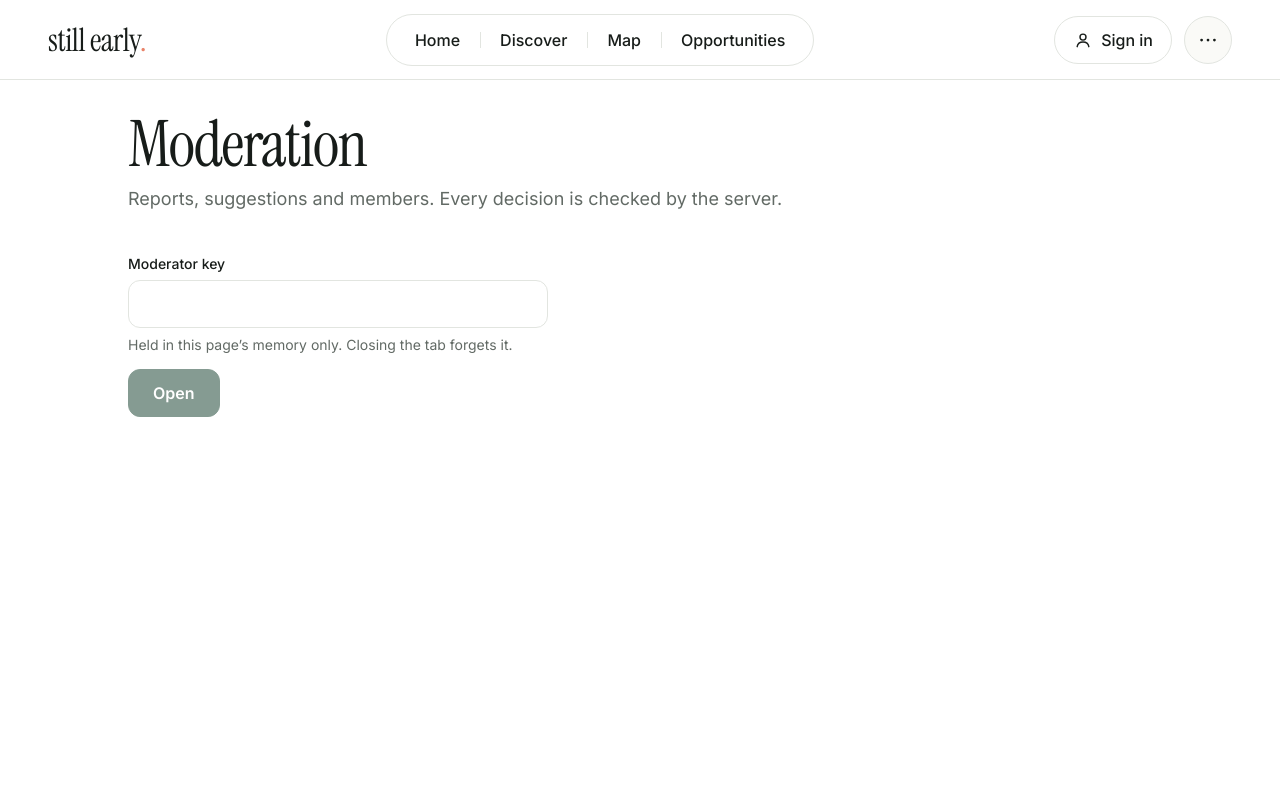
it: the moderators' page › lists what has been suggested, with every field the person sent and their link as a link
Type "a-throwaway-key" into the password field labelled "Moderator key" at point(338, 304), box [128, 280, 548, 328]
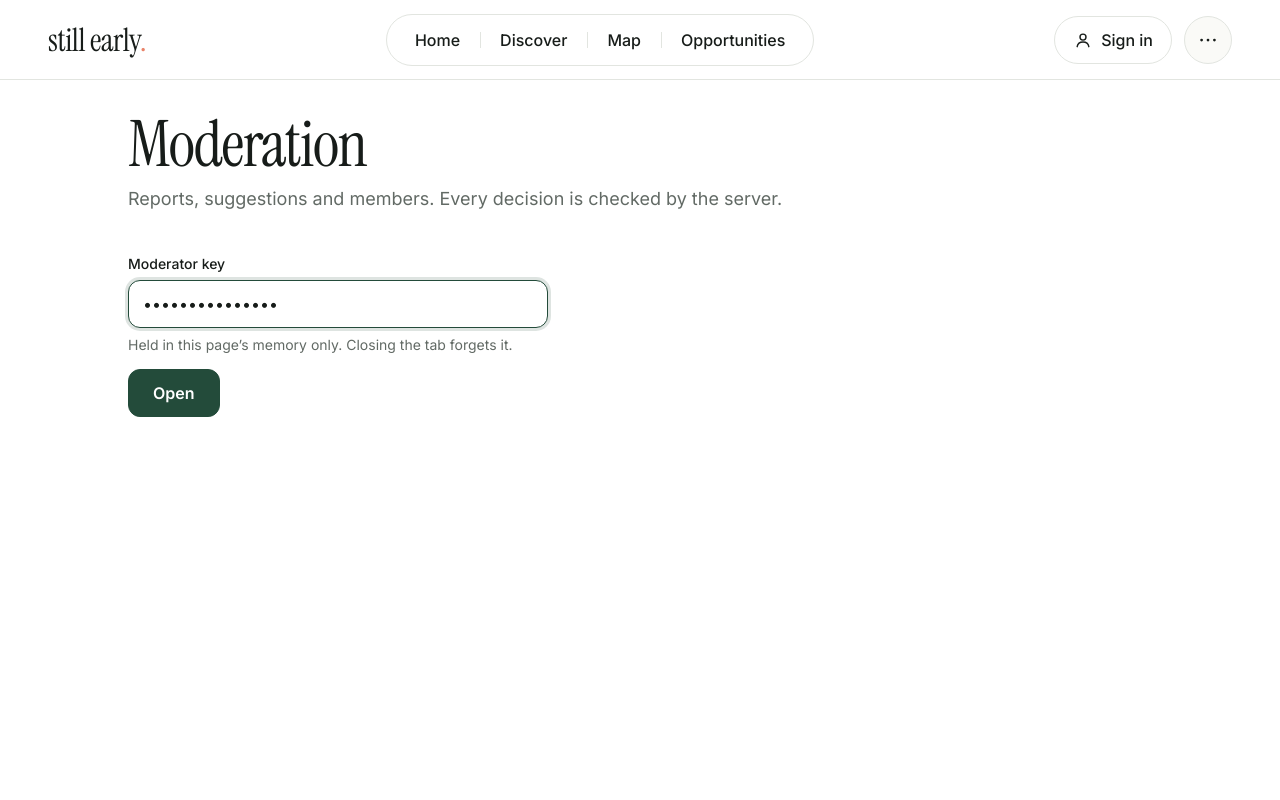
Click the button "Open" at point(174, 393), box [128, 369, 220, 417]
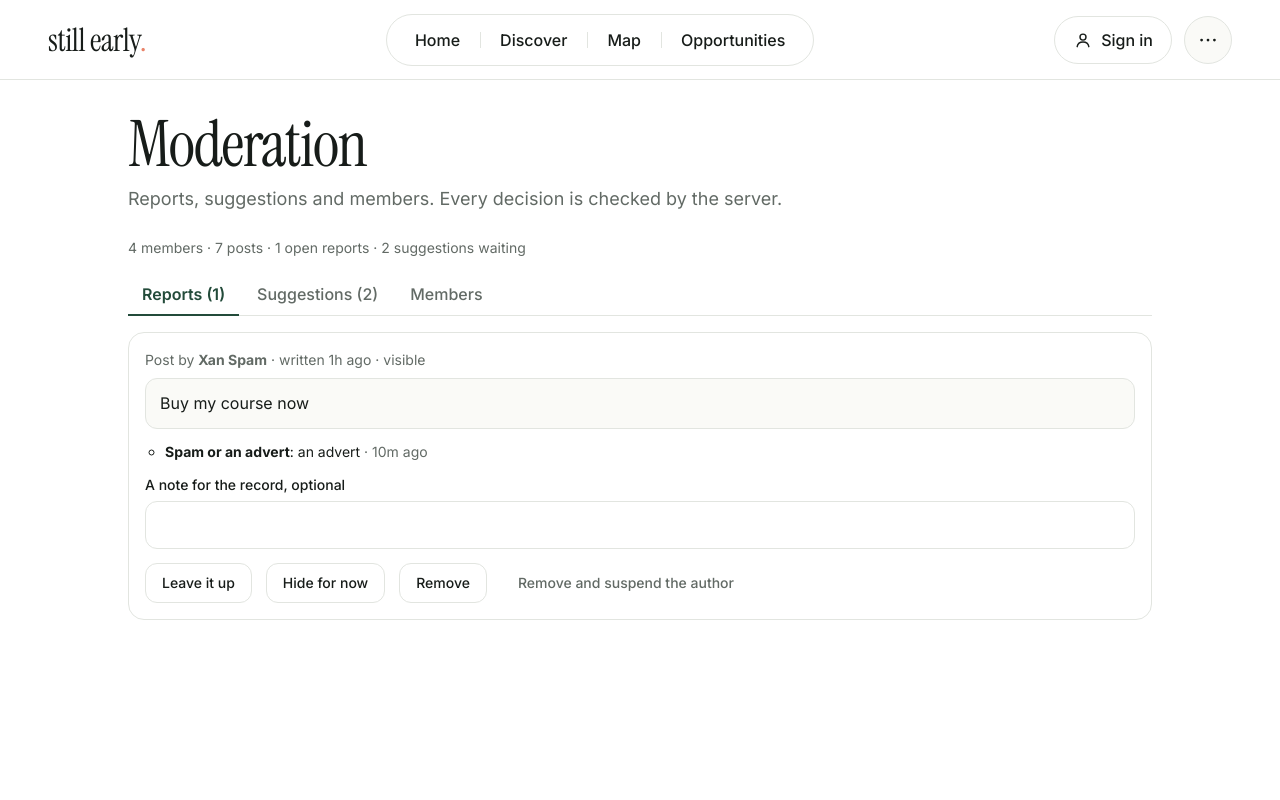
Click the tab "Suggestions (2)" at point(318, 295), box [243, 274, 392, 316]
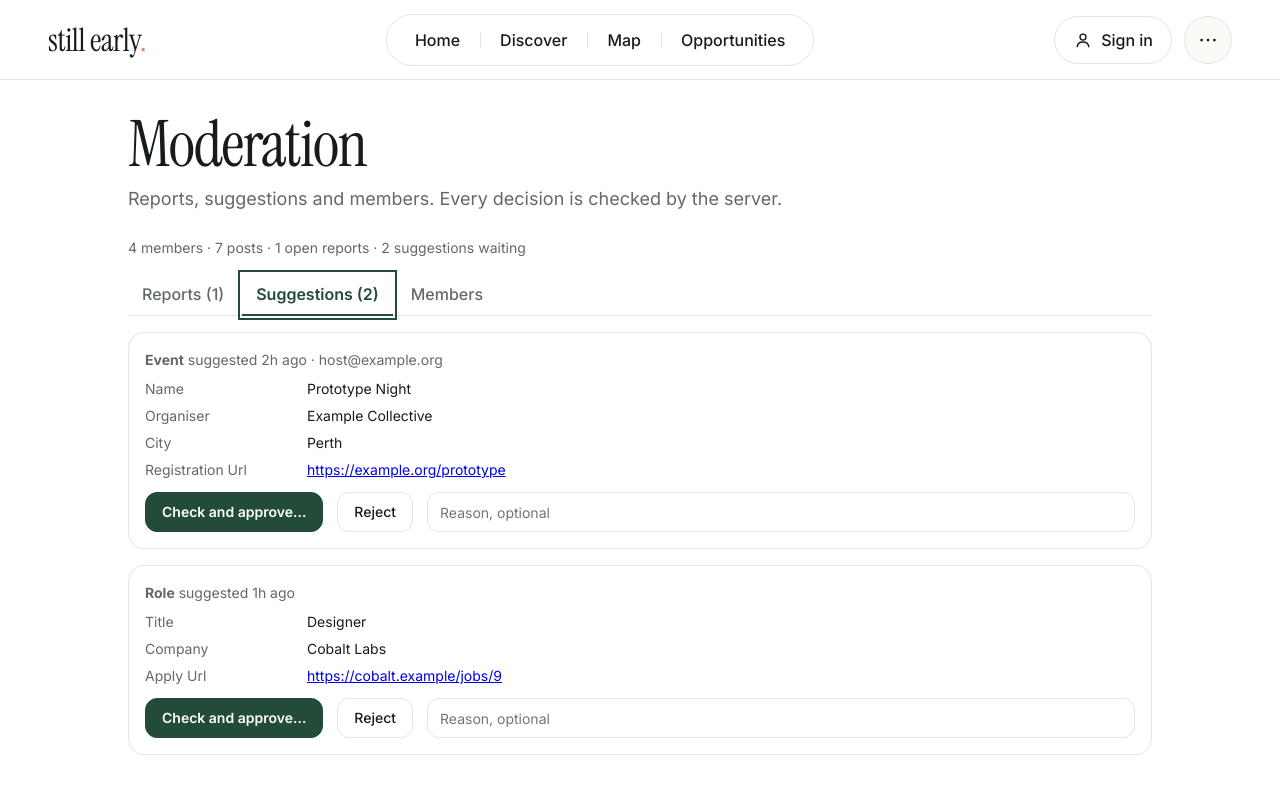
Expected: the text "Prototype Night" is shown, [307, 380, 411, 397]
Expected: the text "Event suggested 2h ago · host@example.org" is shown, [145, 351, 443, 368]
Expected: the text "Designer" is shown, [307, 613, 366, 630]
